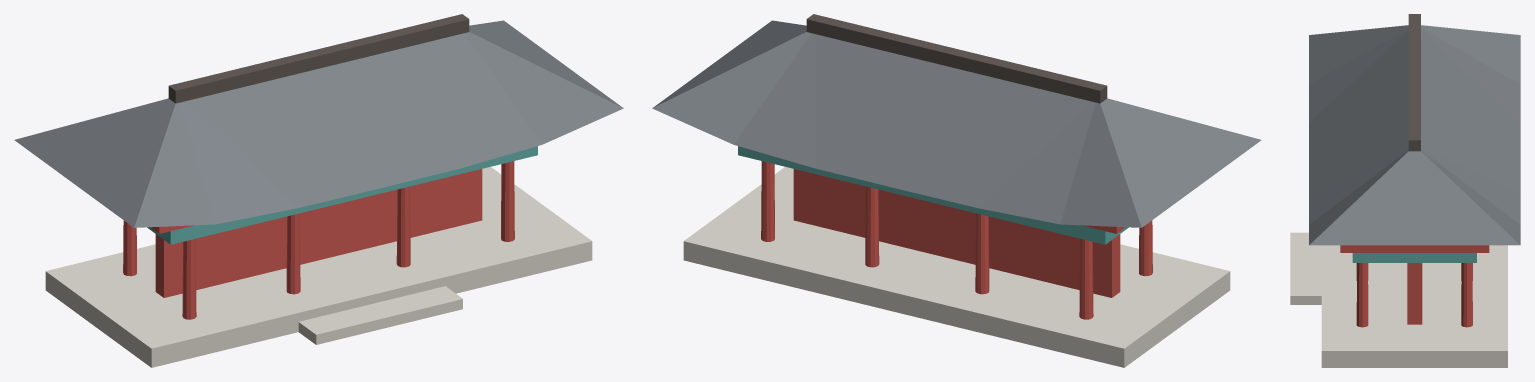
The model's file is LM_KoreaPalaceGate.fbx.
3 views of the same model, side by side, from view 1: azimuth 30°, elevation 25°; view 2: azimuth 150°, elevation 25°; view 3: azimuth 270°, elevation 25° (orthographic). The views are drawn at different scales.
Visible parts, largest first — view 1: LM_KoreaPalaceGate; view 2: LM_KoreaPalaceGate; view 3: LM_KoreaPalaceGate.
Part boxes in pixels (x1,y1,x2,y2): LM_KoreaPalaceGate: (14, 14, 623, 367); LM_KoreaPalaceGate: (652, 14, 1261, 367); LM_KoreaPalaceGate: (1290, 14, 1520, 367).
Bounding box in the file's own units: 40 × 17.4 × 18.5.
